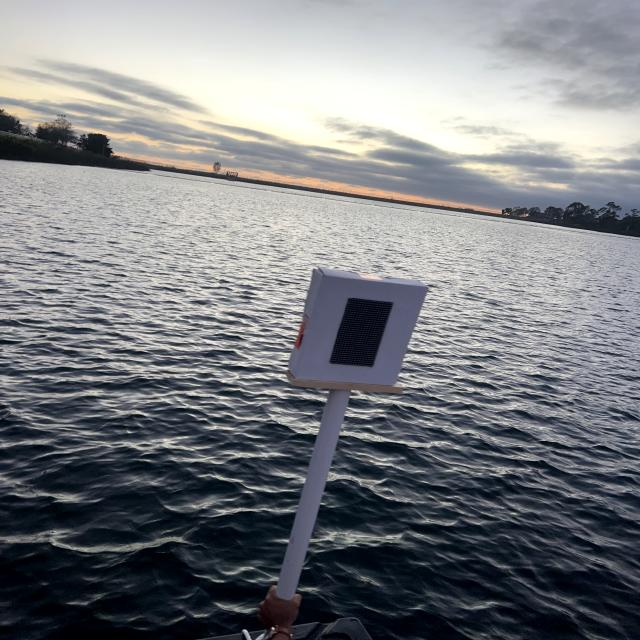led: (314, 284, 395, 383)
